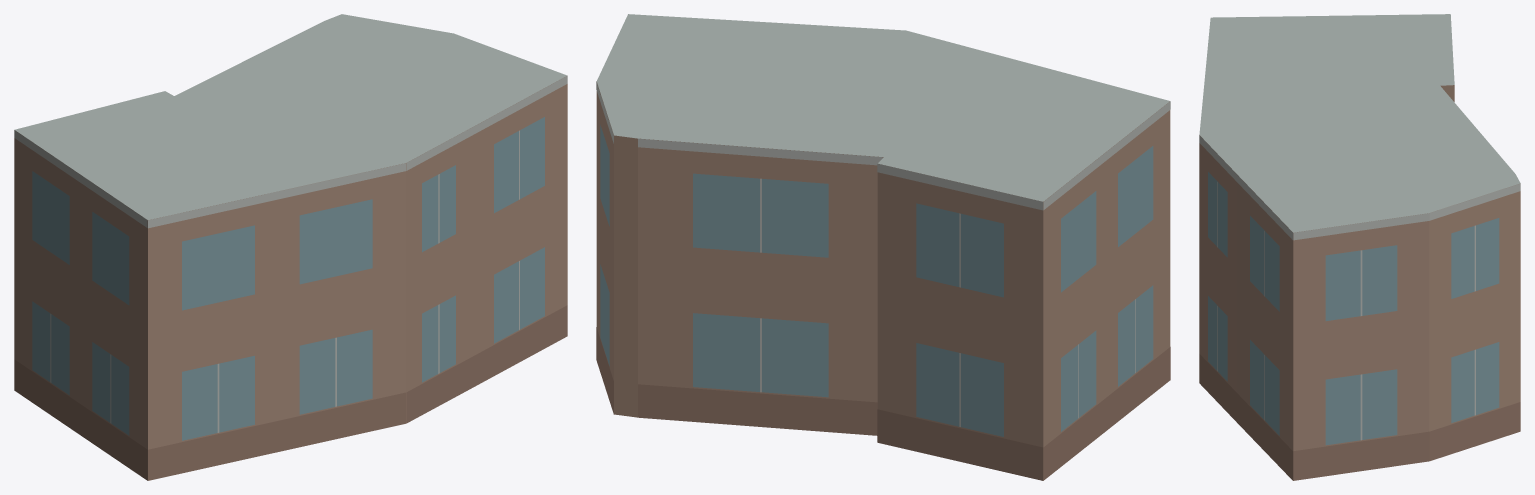
File: survey-upis-32894938.glb
3 renders of one model, left to right at view 1: azimuth 30°, elevation 25°; view 2: azimuth 150°, elevation 25°; view 3: azimuth 270°, elevation 25°, orthographic. The views are drawn at different scales.
Visible parts, largest first — view 1: survey-upis-32894938.tmp; view 2: survey-upis-32894938.tmp; view 3: survey-upis-32894938.tmp.
Boxes of the visible parts, left/top/right/bottom form: survey-upis-32894938.tmp: left=14, top=14, right=567, bottom=480; survey-upis-32894938.tmp: left=596, top=14, right=1170, bottom=480; survey-upis-32894938.tmp: left=1199, top=14, right=1520, bottom=480.
Size of the model in its own units: 14.74 by 7.8 by 9.16.
